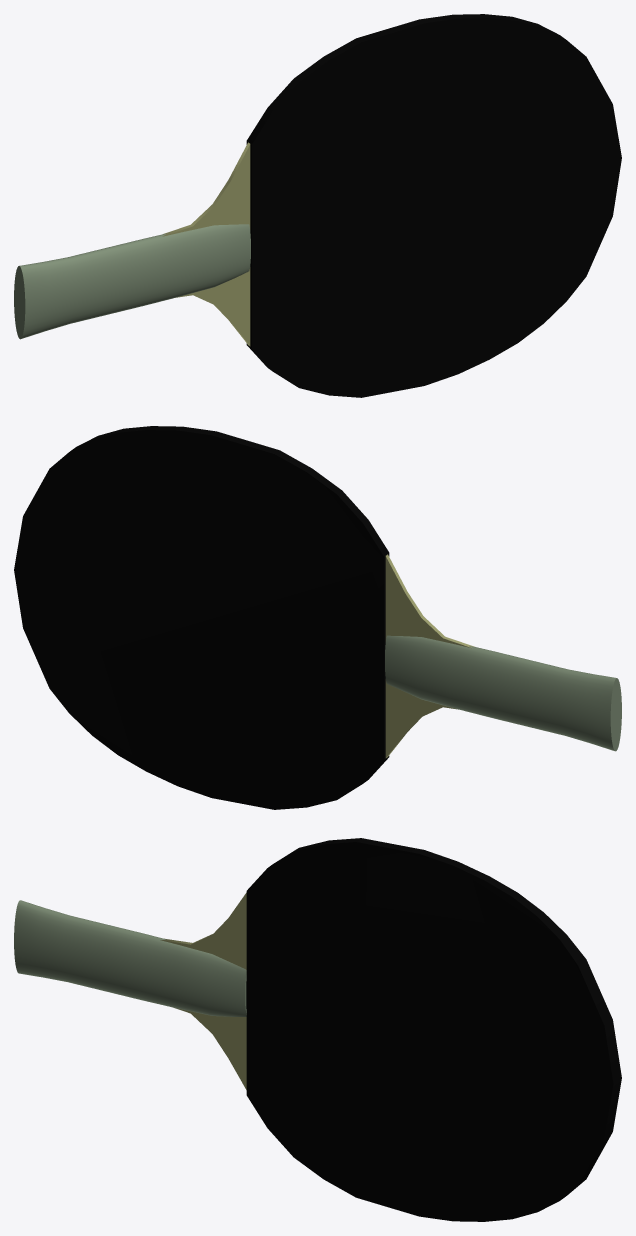
Rendered from racket3.obj.
3 renders of one model, top to bottom at view 1: azimuth 30°, elevation 25°; view 2: azimuth 150°, elevation 25°; view 3: azimuth 330°, elevation 25°, orthographic.
Parts seen in each view (by area): view 1: Cylinder03, Cylinder01, Cylinder02; view 2: Cylinder03, Cylinder01, Cylinder02; view 3: Cylinder03, Cylinder01, Cylinder02.
Boxes of the visible parts, bbox=[...] form: Cylinder03: bbox=[246, 14, 621, 397]; Cylinder01: bbox=[14, 224, 250, 339]; Cylinder02: bbox=[162, 142, 250, 346]; Cylinder03: bbox=[14, 426, 389, 809]; Cylinder01: bbox=[385, 635, 621, 751]; Cylinder02: bbox=[385, 554, 474, 758]; Cylinder03: bbox=[246, 838, 621, 1221]; Cylinder01: bbox=[14, 900, 246, 1016]; Cylinder02: bbox=[160, 892, 246, 1089].
Size of the model in its own units: 388 by 225 by 14.31.
